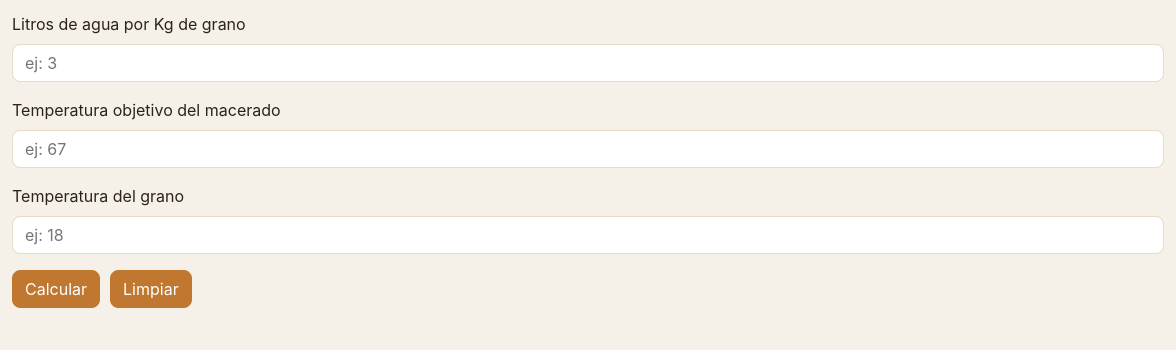
Test: MashTemperature › muestra error si litros de agua por kg está vacío
Click the button "Calcular".
click(56, 289)  # box [12,270,100,308]
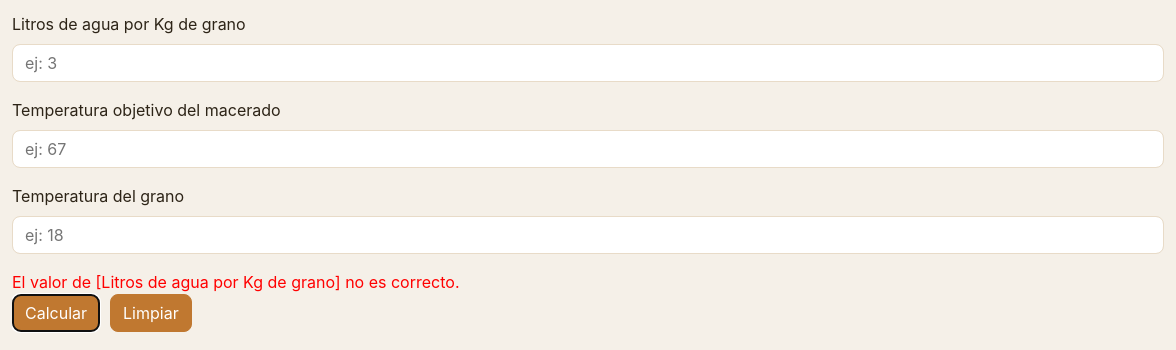
Expected: the message shows "Litros de agua", [12,272,460,292]
